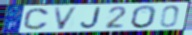0: (159, 4, 181, 28)
2: (105, 5, 128, 29)
C: (22, 7, 51, 31)
J: (78, 6, 102, 29)
O: (130, 5, 158, 29)
V: (52, 6, 80, 31)
